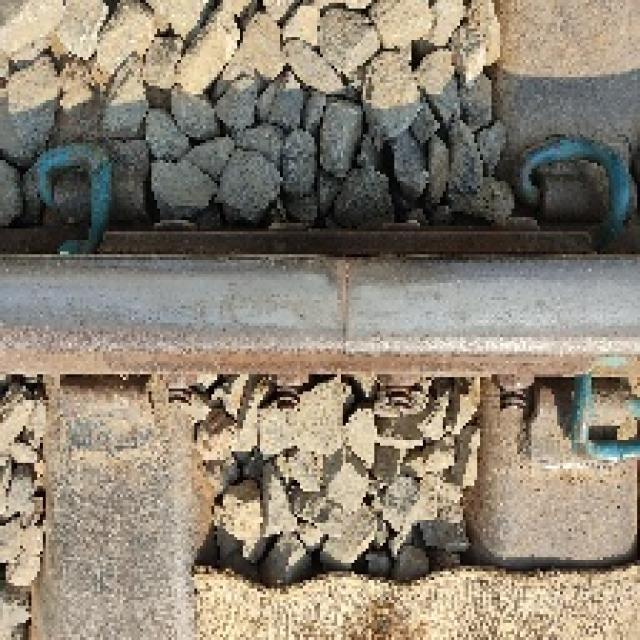Good Fasteners: (26, 140, 143, 251), (520, 134, 634, 246), (529, 377, 637, 466)
Missing Fastener: (45, 379, 162, 471)
